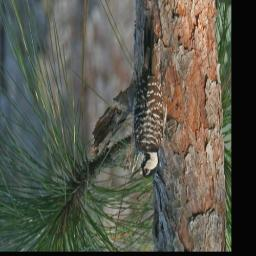Woodpecker: (128, 6, 177, 179)
